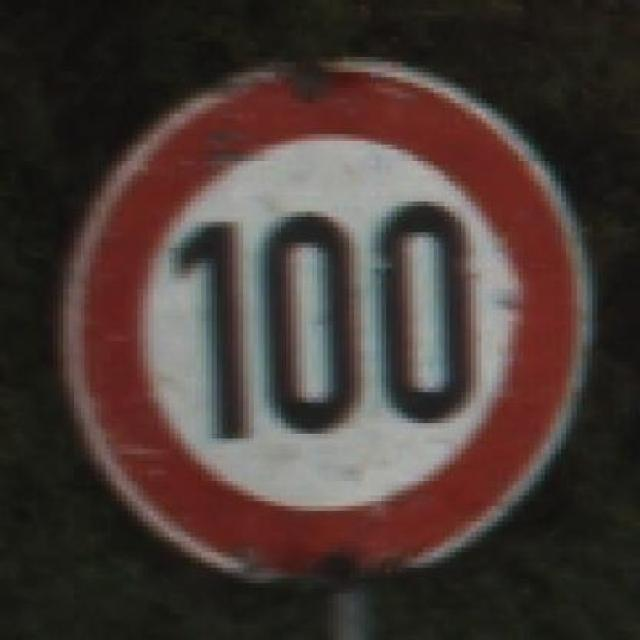forb_speed_over_100: (82, 62, 582, 573)
